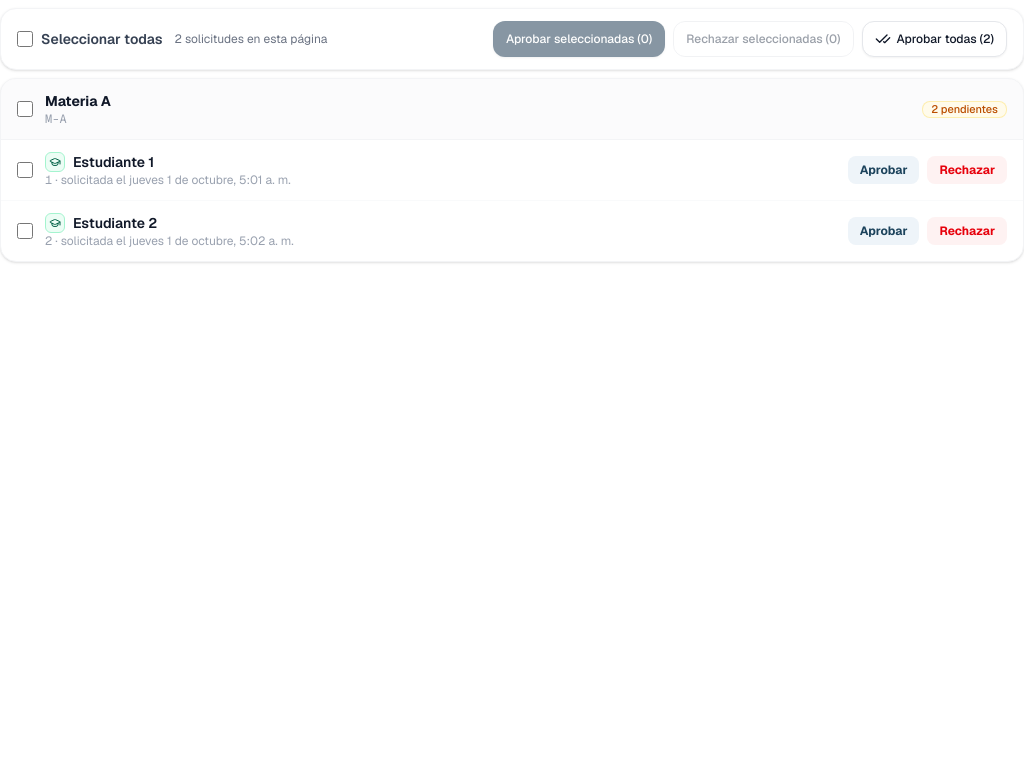
Scenario: EnrollmentRequestsBoard › rejects the selection after confirming
This screenshot has width=1024, height=768.
Step 1. Click the checkbox named "solicitud de Estudiante 2" → x=25, y=231, box [17, 223, 33, 239]
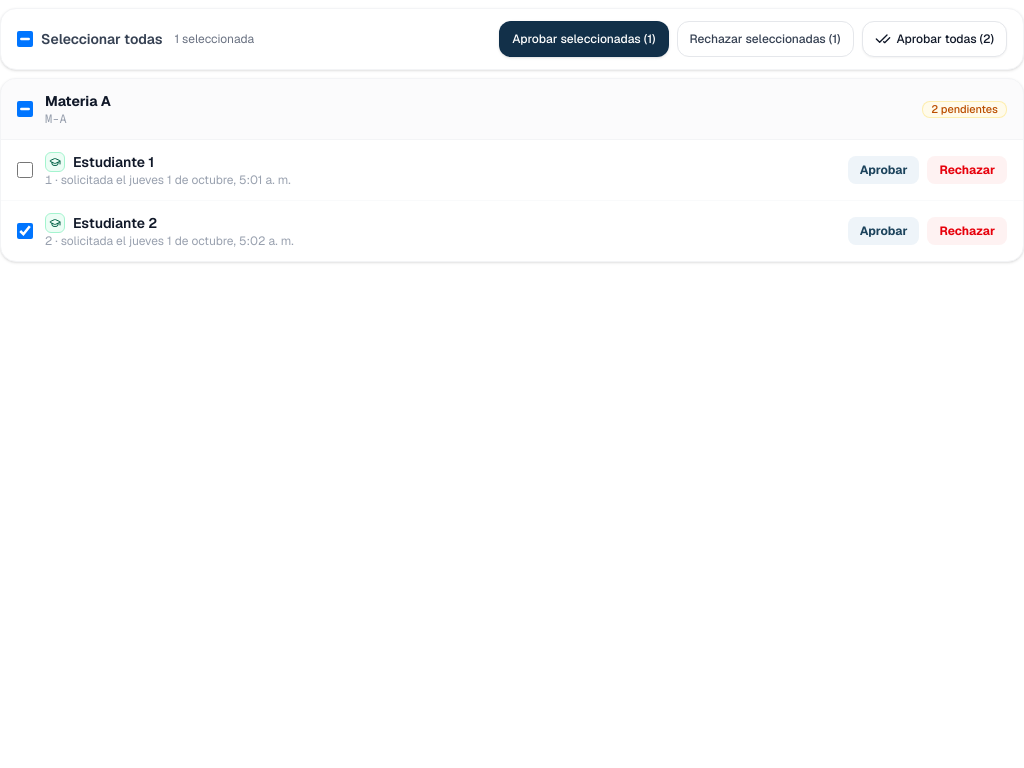
Step 2. Click the button "Rechazar seleccionadas (1)" → x=765, y=39, box [676, 21, 854, 57]
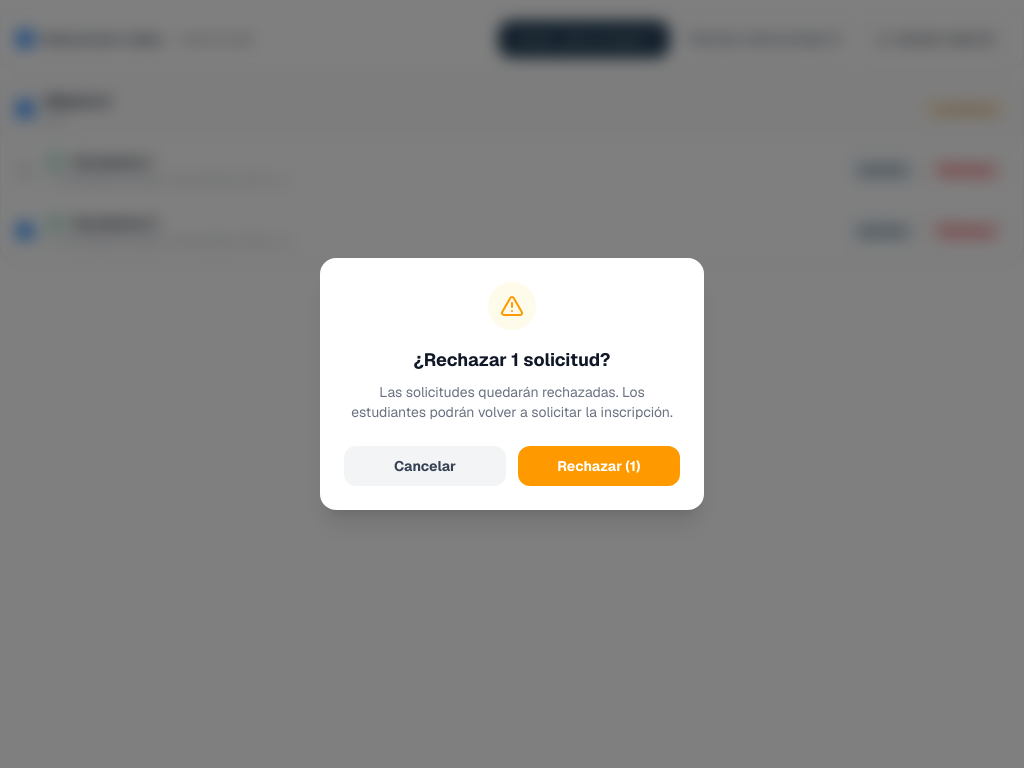
Step 3. Click the button "Rechazar (1)" → x=599, y=466, box [518, 446, 680, 486]
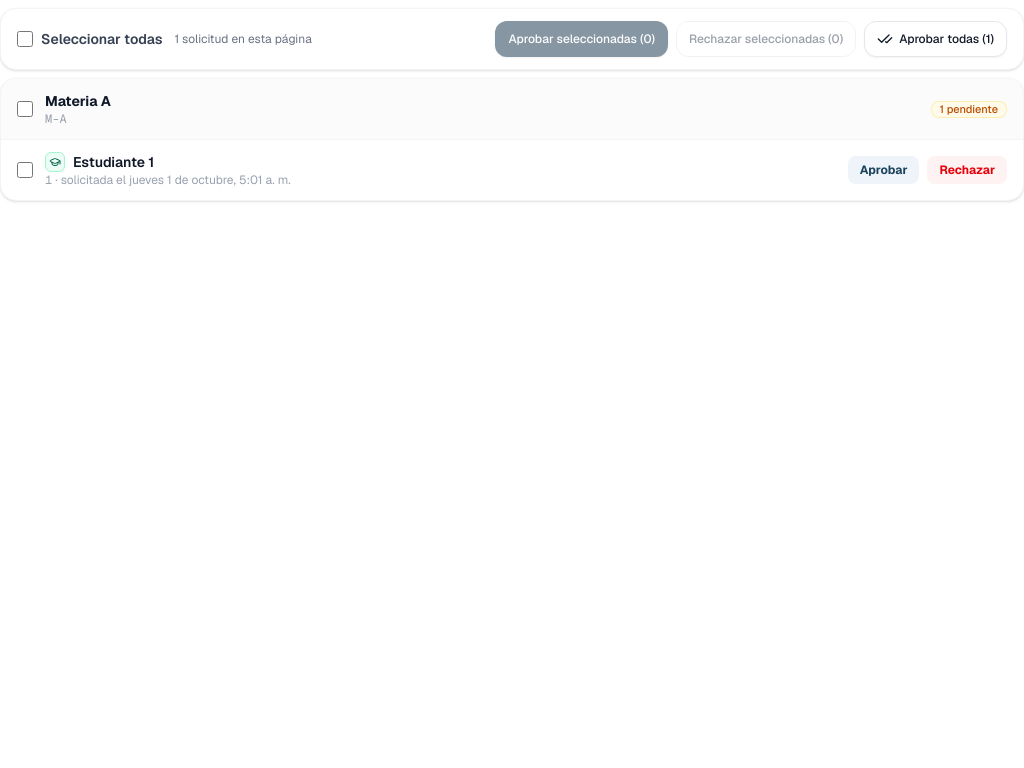
Check: the text "Estudiante 2" is gone
